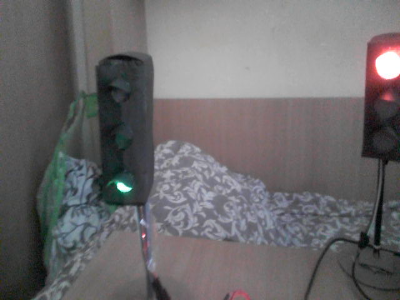trafficlight_green: (99, 61, 149, 202)
trafficlight_red: (363, 40, 400, 156)
